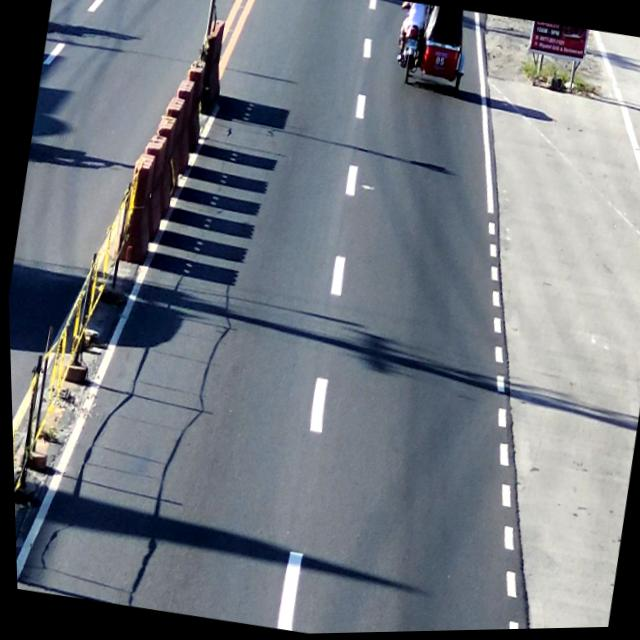Tricycle: (394, 2, 474, 97)
